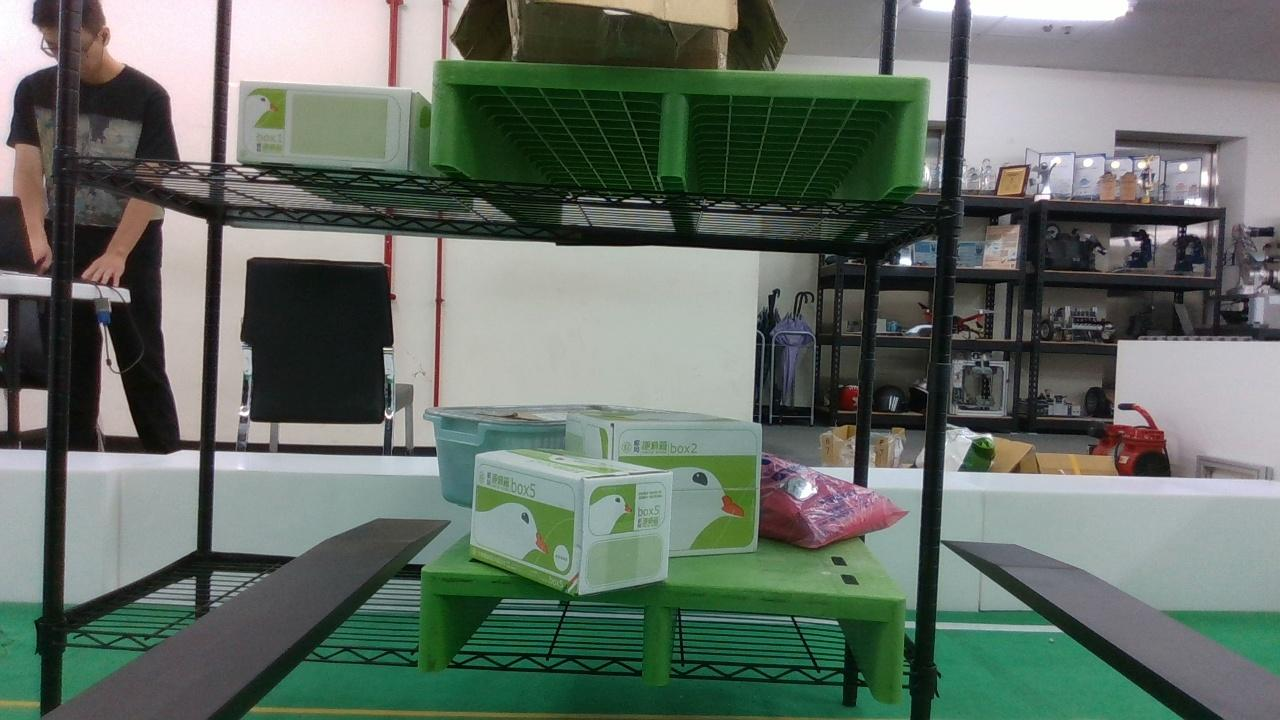Pallet: (431, 58, 931, 190), (412, 577, 905, 700)
